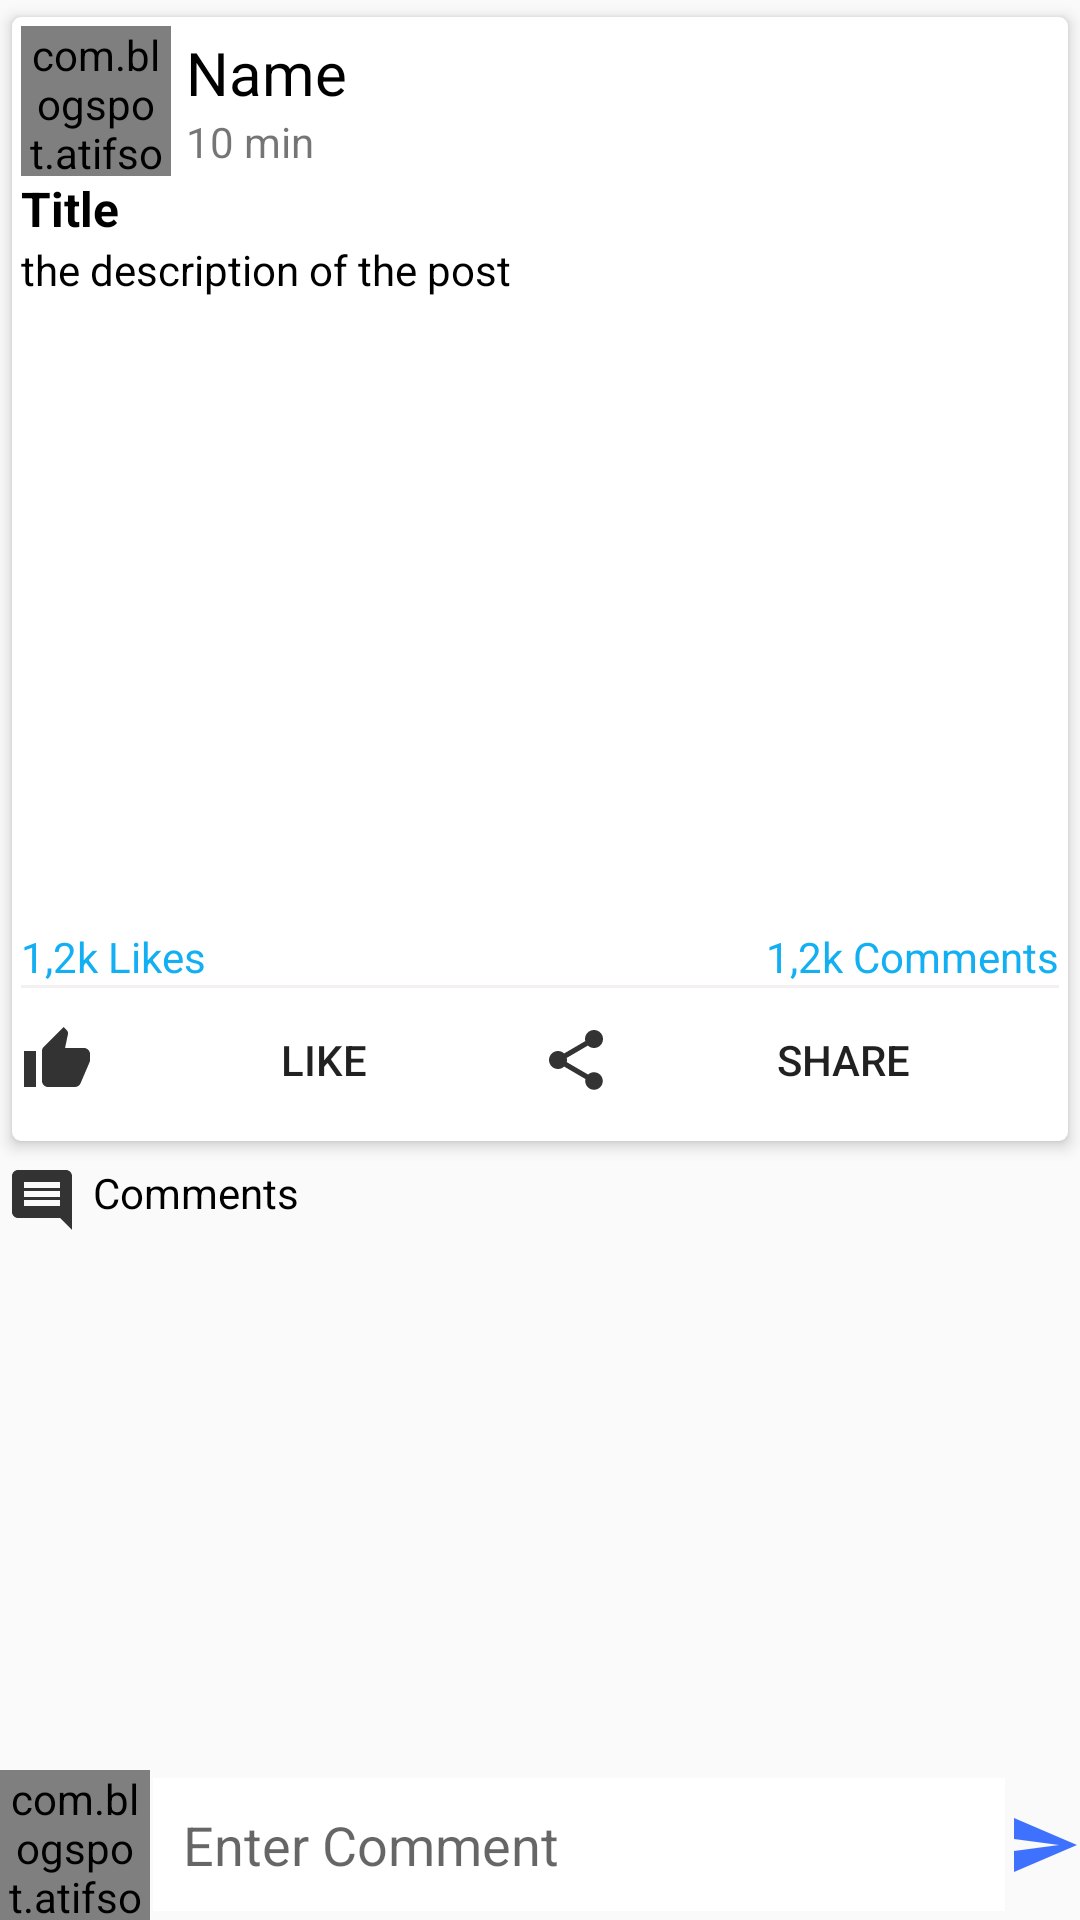

Locate icon controls on the screen. Image size 1080w x 1920h, boxes as (x1=x1, y1=y1, x2=x2, y2=y2).
send: (x1=1014, y1=1818, x2=1077, y2=1872)
